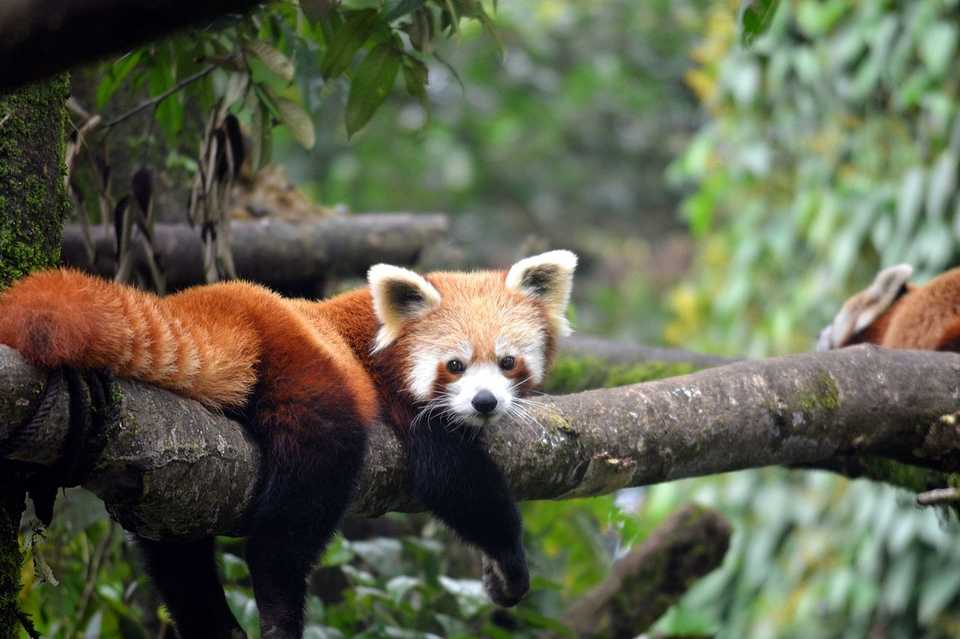red_panda: (1, 252, 582, 639), (801, 262, 960, 367)
